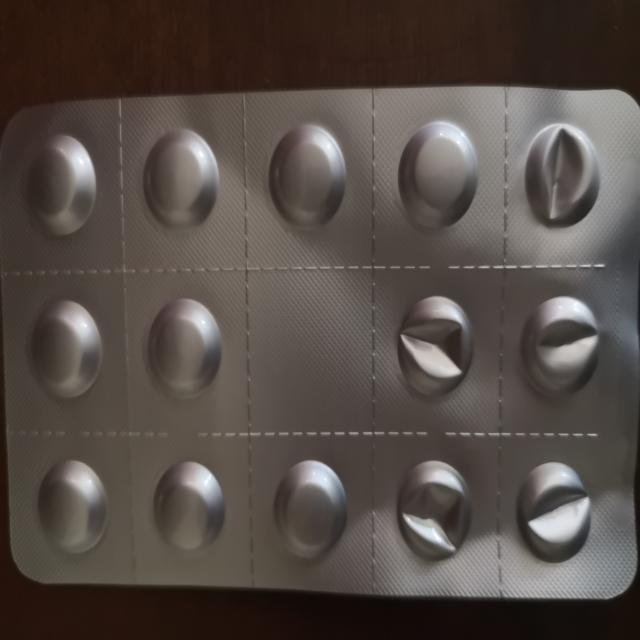Empty: (391, 288, 478, 407), (519, 287, 607, 401), (391, 455, 479, 569), (518, 115, 603, 228), (514, 457, 592, 568)
Pill: (390, 116, 482, 233), (265, 452, 354, 568), (140, 289, 230, 402), (138, 124, 229, 235), (264, 116, 350, 233), (20, 289, 107, 403), (31, 454, 118, 561), (20, 131, 104, 239), (145, 455, 229, 558)
